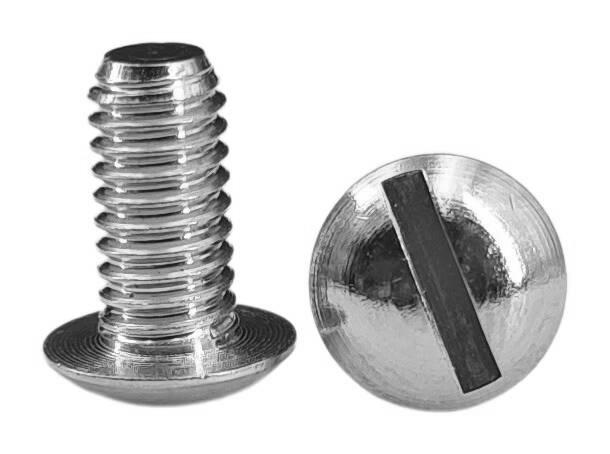screw: (302, 147, 570, 414)
